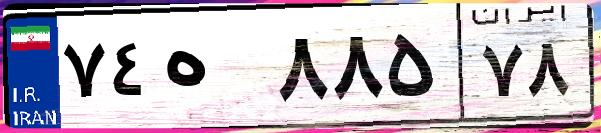4: (110, 28, 158, 98)
5: (385, 28, 445, 110)
7: (57, 26, 110, 100), (475, 38, 525, 113)
8: (270, 28, 330, 110), (330, 28, 385, 110), (525, 38, 570, 115)
ه: (158, 20, 270, 120)
